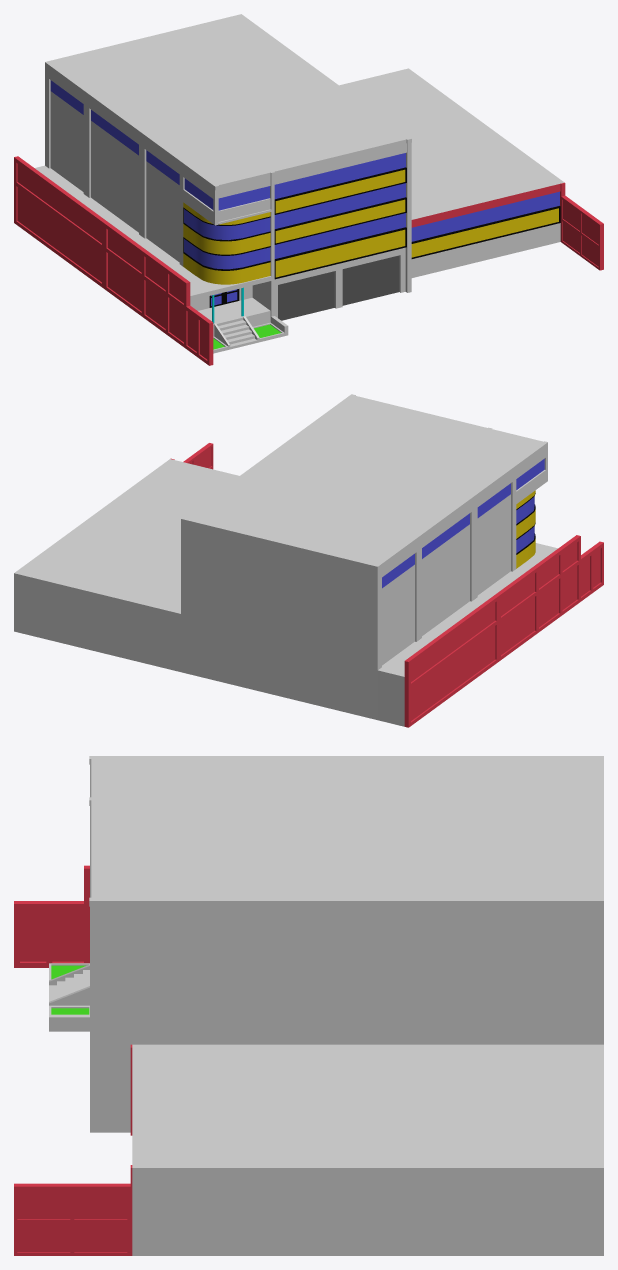
File: building13.fbx
3 views of the same model, one above another, from view 1: azimuth 30°, elevation 25°; view 2: azimuth 150°, elevation 25°; view 3: azimuth 270°, elevation 25° (orthographic). The views are drawn at different scales.
Visible parts, largest first — view 1: BB-001; view 2: BB-001; view 3: BB-001.
Boxes of the visible parts, x1,y1,x2,y2 form: BB-001: (14,14,603,365); BB-001: (14,394,603,727); BB-001: (14,756,603,1255).
Size of the model in its own units: 3500 by 1300 by 3000.
